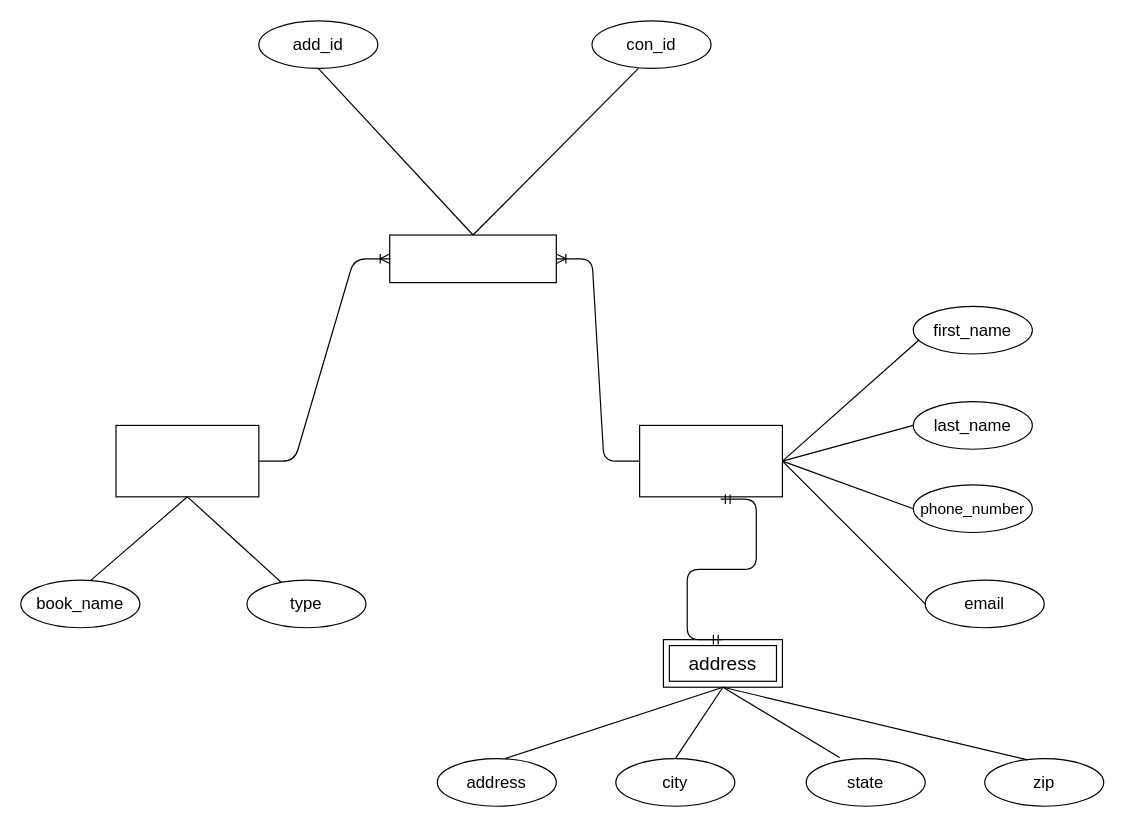
This 1125x827 diagram has some shape labels left out. Here are the shapes that lost their labels. From the top down, the centre of each, then its label:
At pixel 472 258: "address_contacts".
At pixel 187 460: "address_book".
At pixel 710 460: "contacts".
